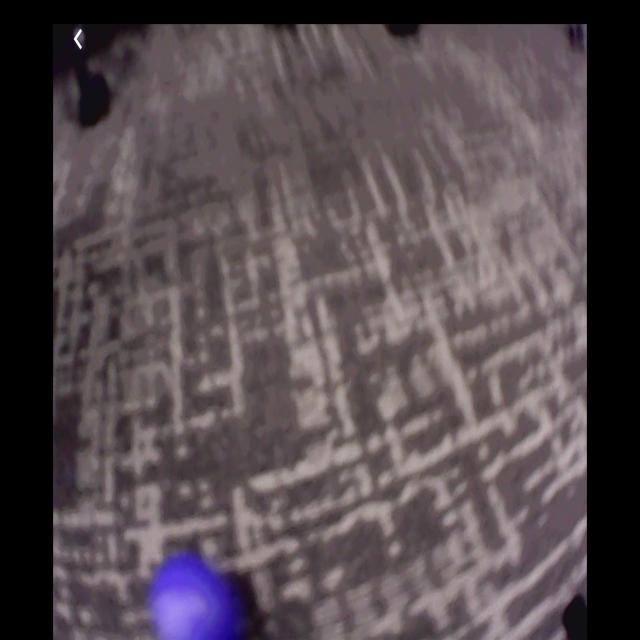ball: (152, 556, 236, 640)
